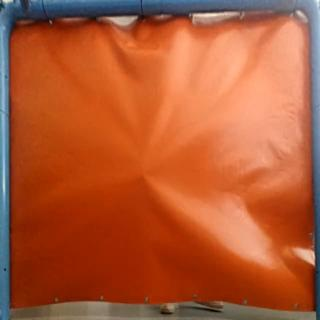Hit-hRxx: (137, 171, 150, 181)
